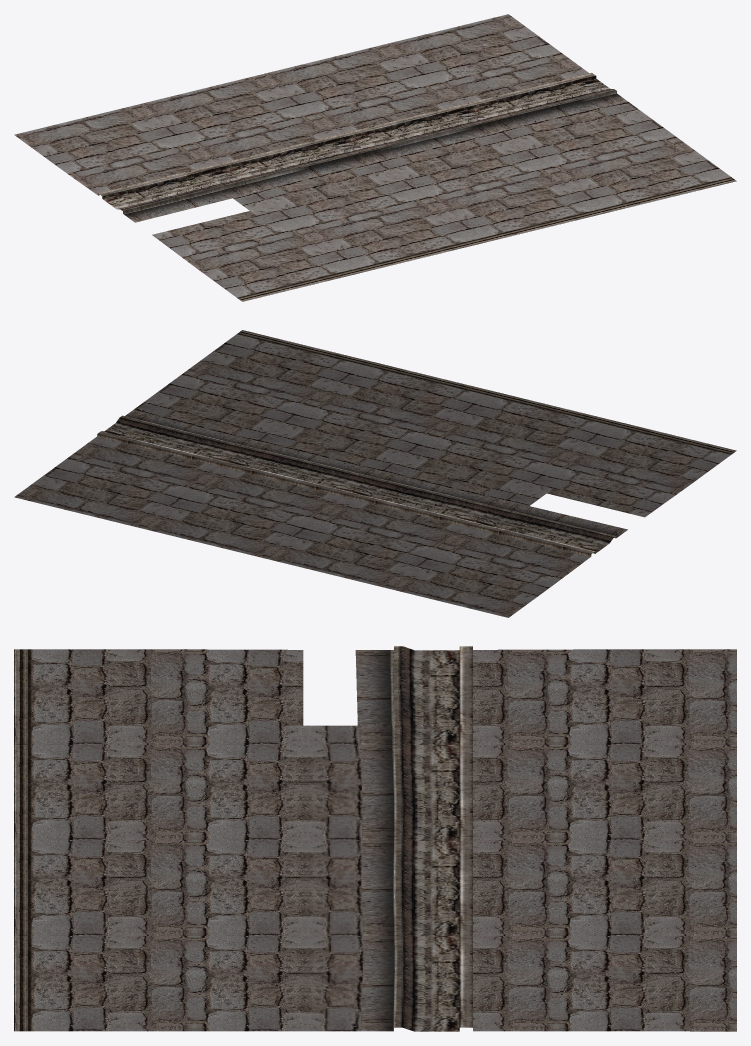
The picture shows the model from 3 angles, top to bottom: view 1: azimuth 30°, elevation 25°; view 2: azimuth 150°, elevation 25°; view 3: azimuth 270°, elevation 25°; orthographic projection. The views are drawn at different scales.
Visible parts, largest first — view 1: Object01; view 2: Object01; view 3: Object01.
Part boxes in pixels (x1=…): Object01: x1=14, y1=14, x2=736, y2=301; Object01: x1=14, y1=330, x2=736, y2=617; Object01: x1=14, y1=646, x2=736, y2=1031.
Size of the model in its own units: 1000 by 5.04 by 800.
